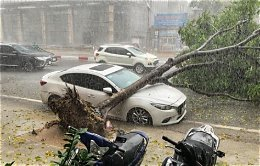ROAD_OBSTACLE: (3, 43, 221, 163)
